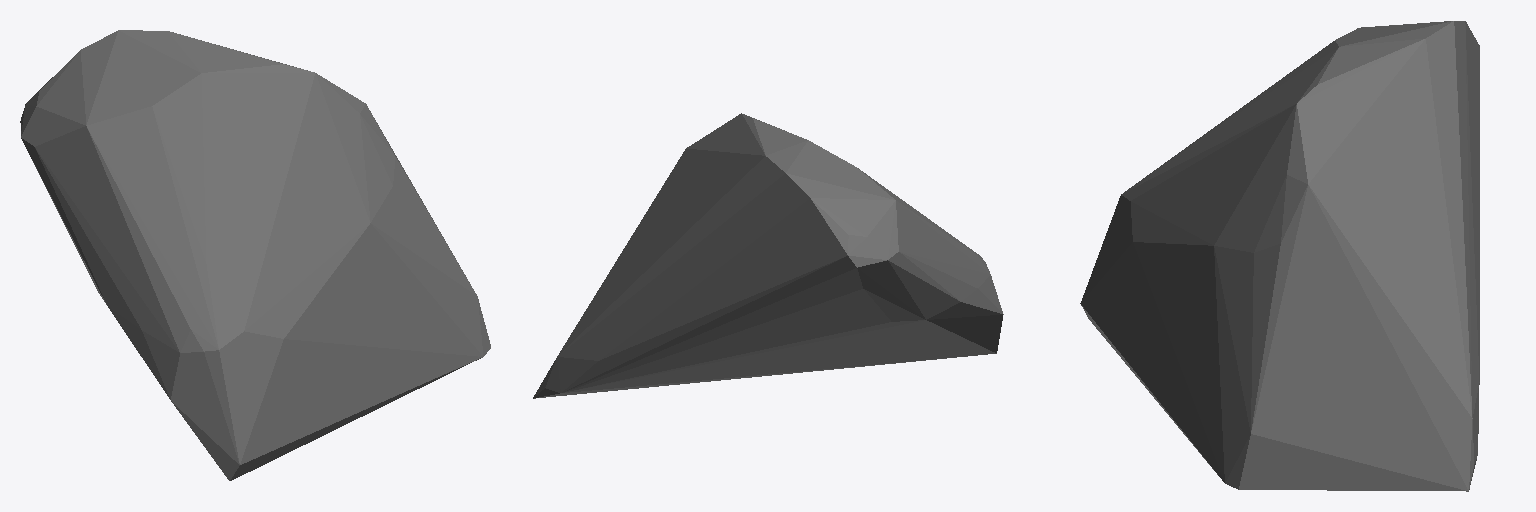
robot.urdf — 70_160:
<?xml version="1.0"?>
<robot name="70_160">
  <link name="link">
    <contact>
      <lateral_friction value="0.6"/>
    </contact>
    <inertial>
      <origin xyz="-0.0030106631740833565 0.007119189286358502 -0.005710489564180226" rpy="0 0 0"/>
      <mass value = "0.6730641369235416"/>
      <inertia ixx="0.00048567324697315964" ixy="5.2618098197876585e-05" ixz="-0.00011726532005793864" iyy="0.0006281368928215852" iyz="9.098145304692567e-05" izz="0.0006225918140486526" />
    </inertial>
    <visual name="visual">
      <geometry>
        <mesh filename="70_160.obj"/>
      </geometry>
      <material name="material">
        <color rgba="0.4825462463784267 0.4825462463784267 0.4825462463784267 1.0"/>
      </material>
    </visual>
    <collision name="collision">
      <geometry>
        <mesh filename="70_160.obj"/>
      </geometry>
    </collision>
  </link>
</robot>

--- Render facts (derived) ---
3 views of the same robot in one strip: view 1: azimuth 30°, elevation 25°; view 2: azimuth 150°, elevation 25°; view 3: azimuth 270°, elevation 25° (orthographic).
Robot: 70_160 — 1 links, 0 joints (none); root link link; default pose: all joints at 0.
Visible links, largest first — view 1: link; view 2: link; view 3: link.
Boxes of the visible links, bbox=[...] form: link: bbox=[20, 30, 490, 480]; link: bbox=[533, 113, 1003, 398]; link: bbox=[1080, 21, 1479, 491].
Size in the robot's own frame: 0.1021 by 0.0879 by 0.0803 metres.
1 mesh visuals loaded from 1 distinct referenced files (1 OBJ).
